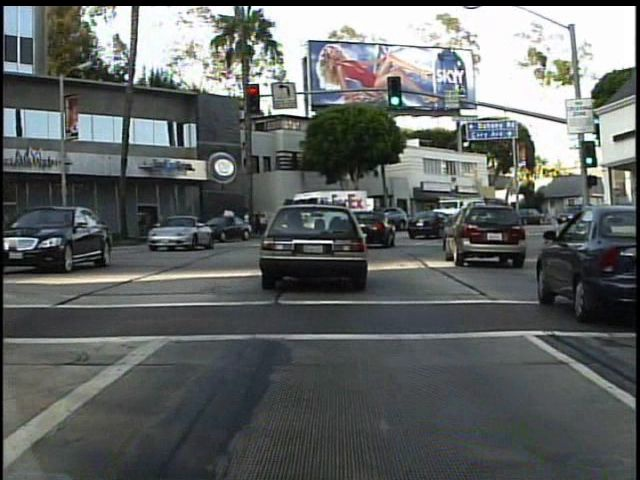person: (254, 206, 265, 235)
